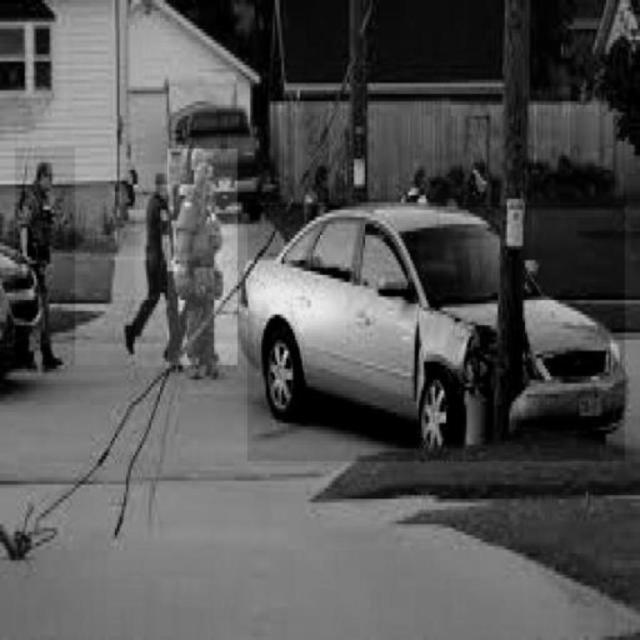accident: (247, 205, 625, 461)
person: (168, 149, 238, 365), (15, 148, 75, 365), (135, 164, 193, 368)
